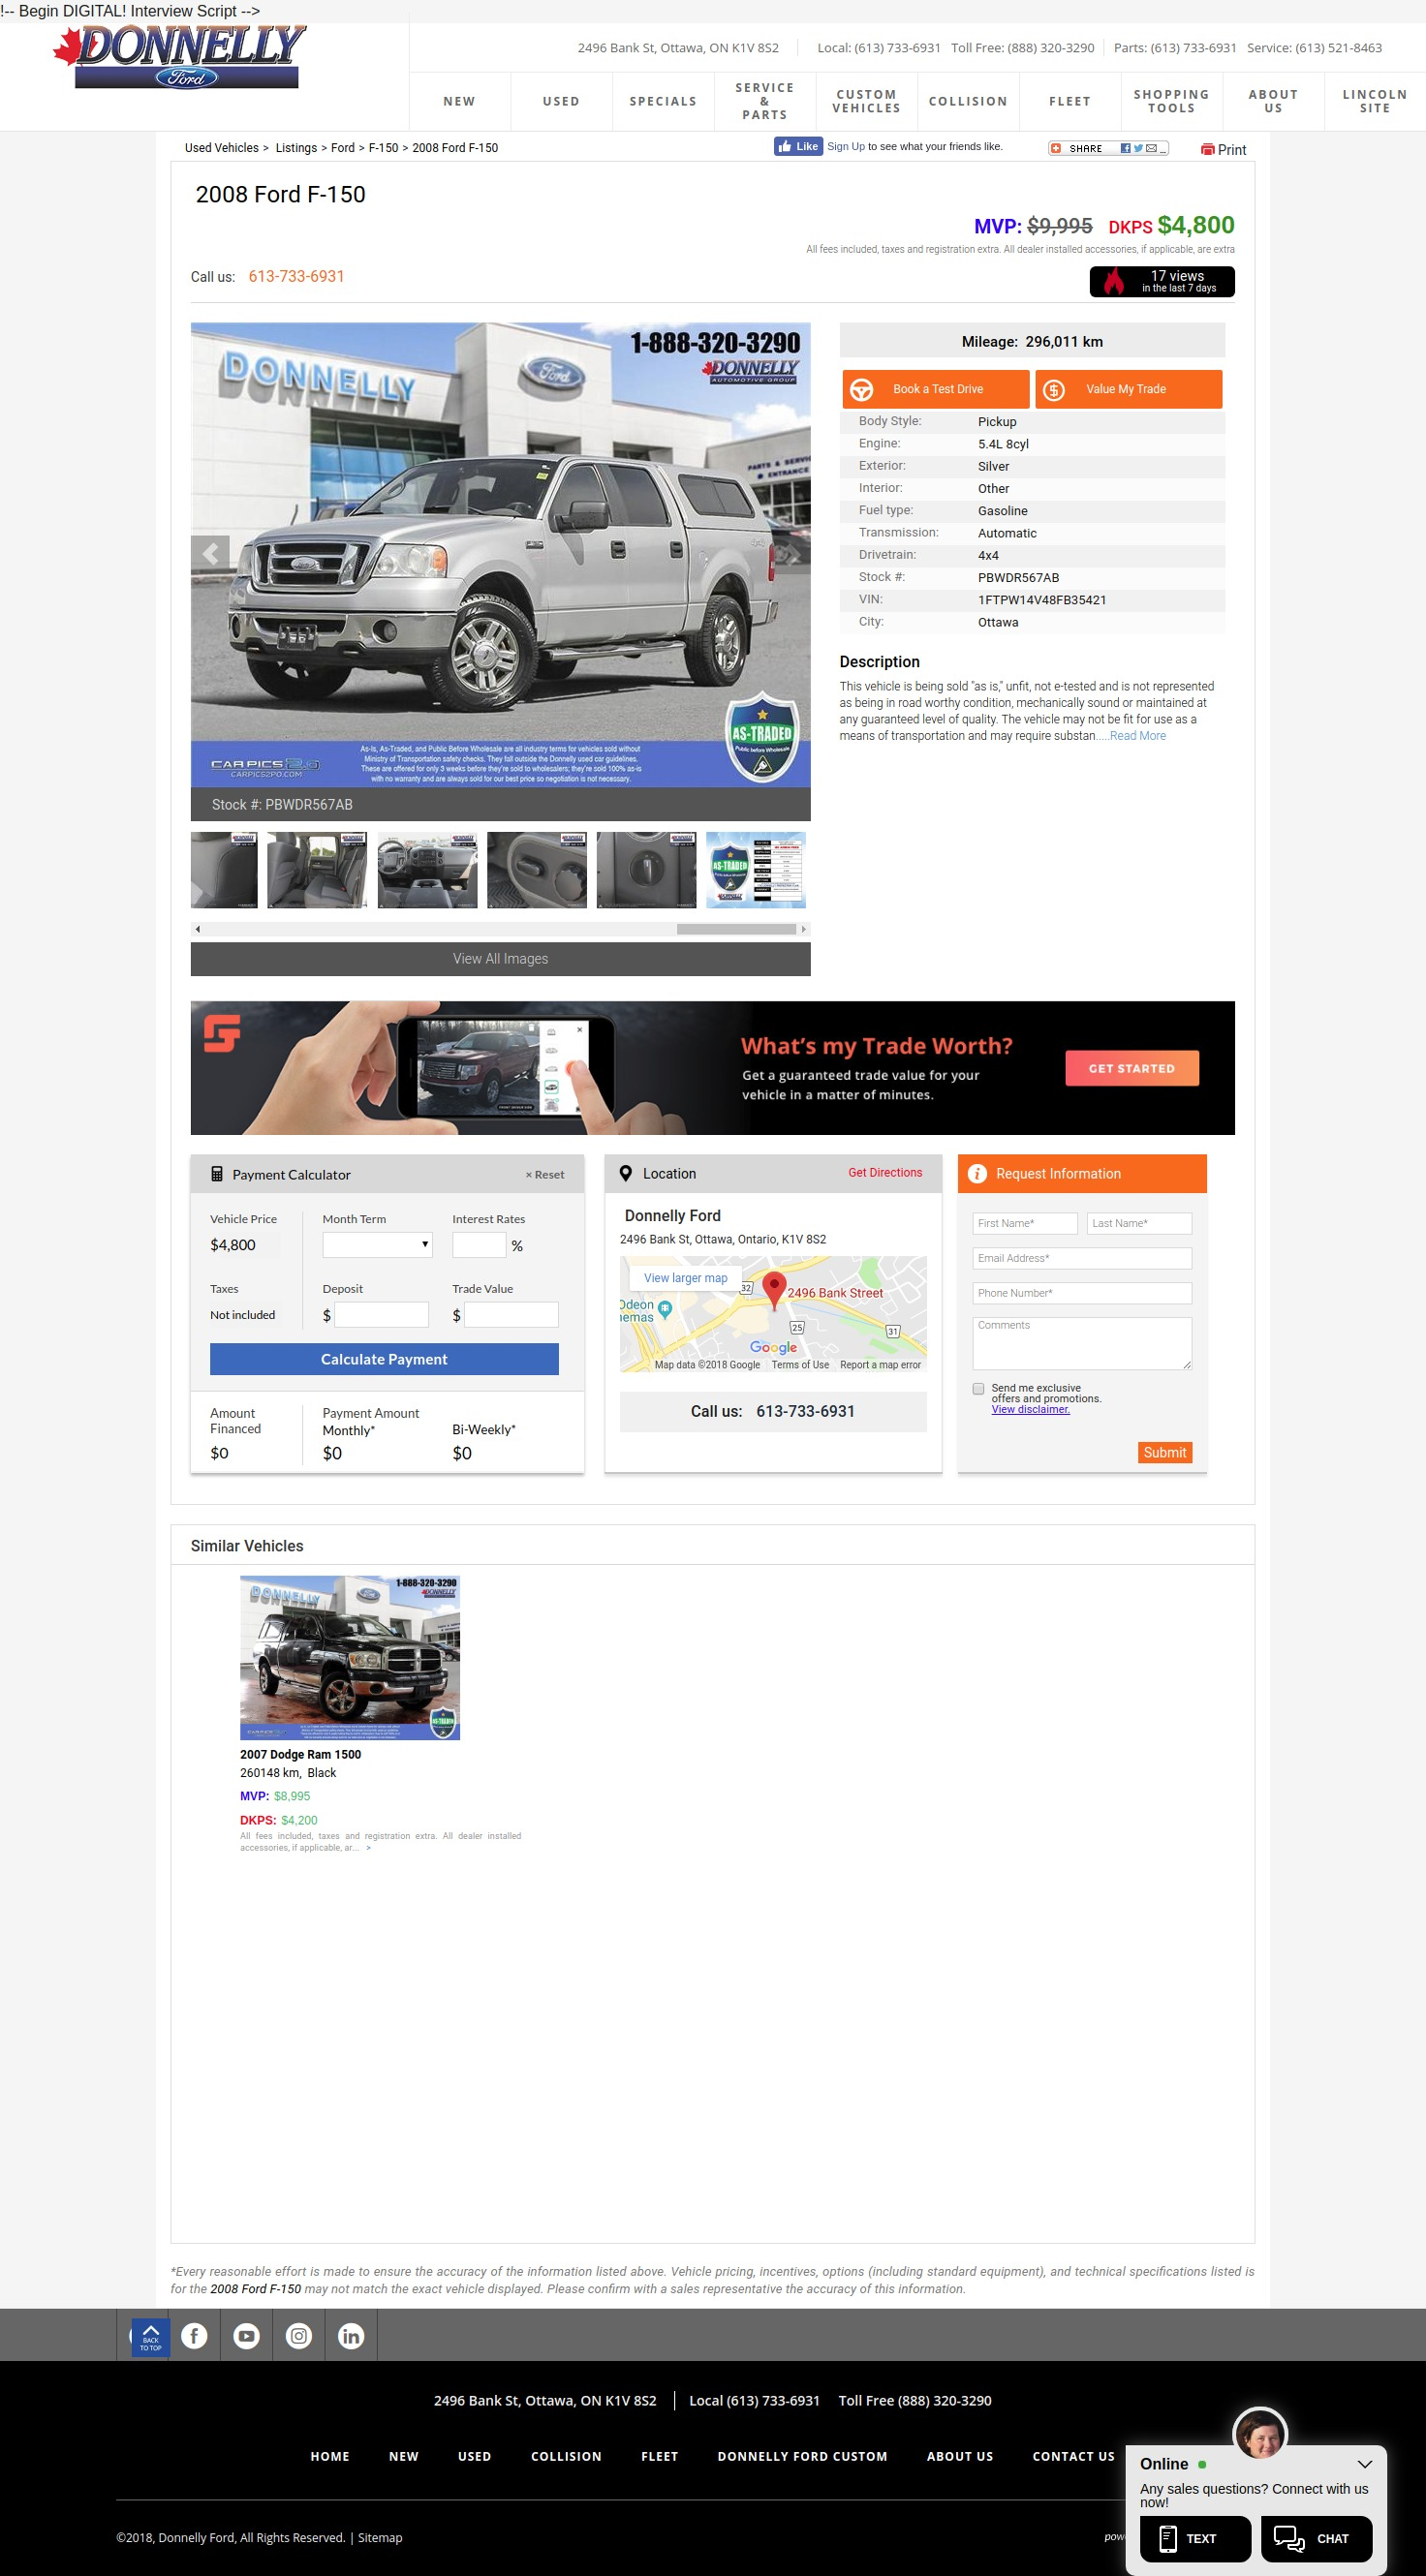car: (803, 927, 808, 934)
